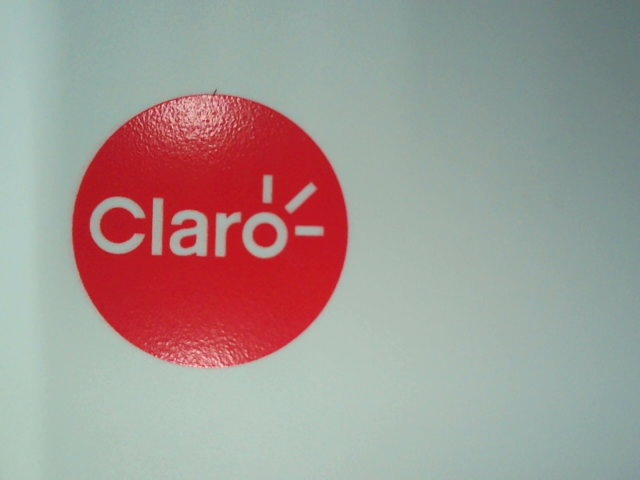BC_ClaorRed: (70, 90, 360, 372)
